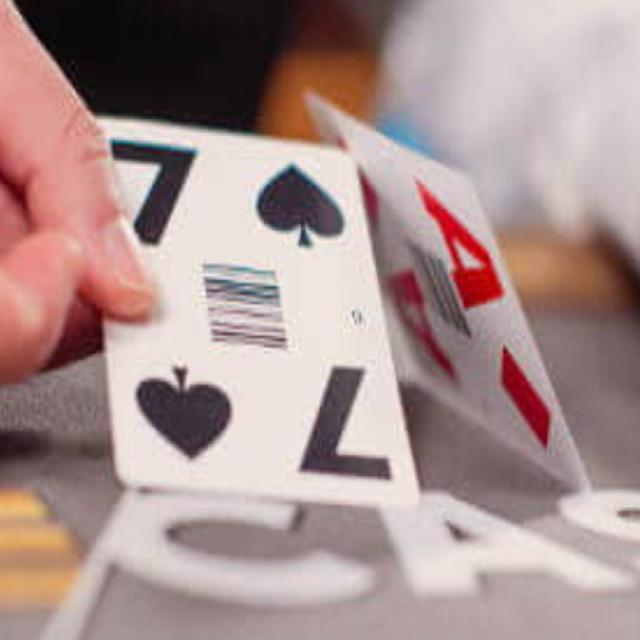Card-7: (97, 118, 418, 501)
Card-A: (303, 90, 593, 488)
